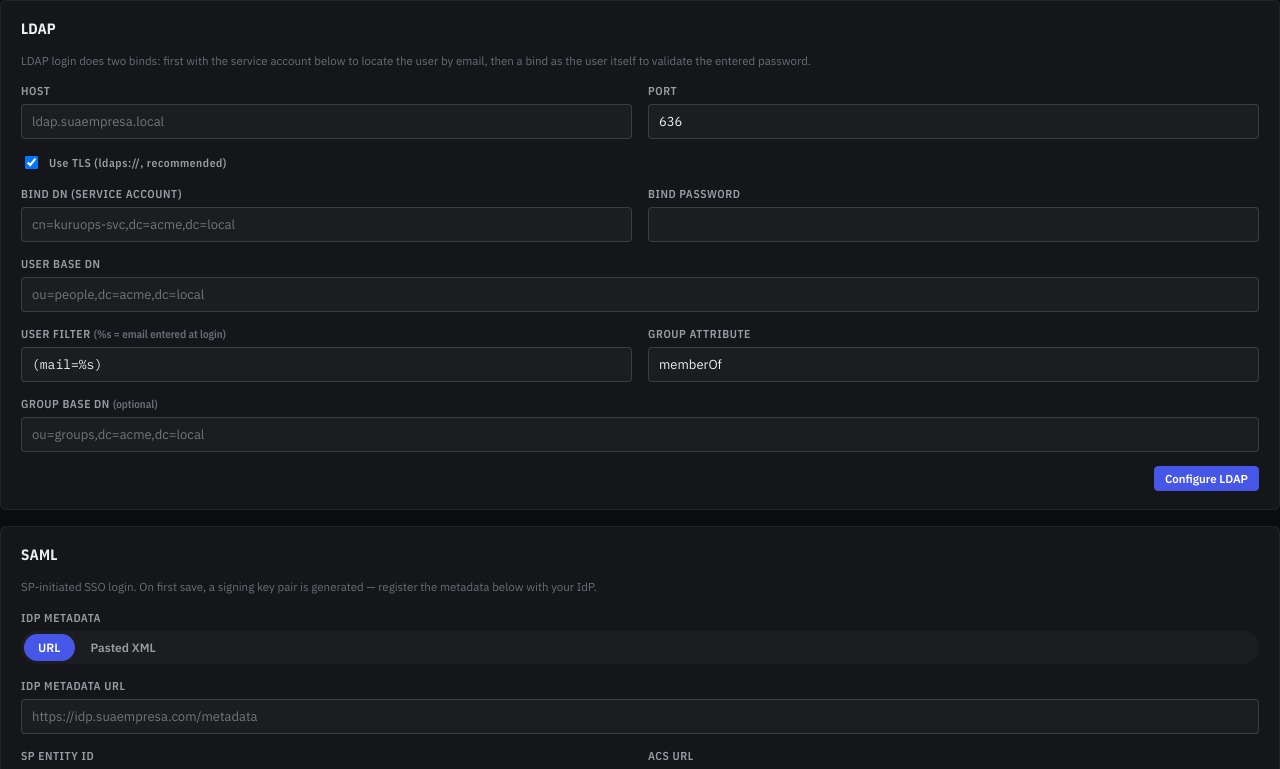
it: IdentityProvidersPanel › saving the LDAP form PUTs the config and shows a success message
In the field labelled "Host": coordinates (326, 122) x1=21 y1=104 x2=632 y2=139, type "ldap.example.com"
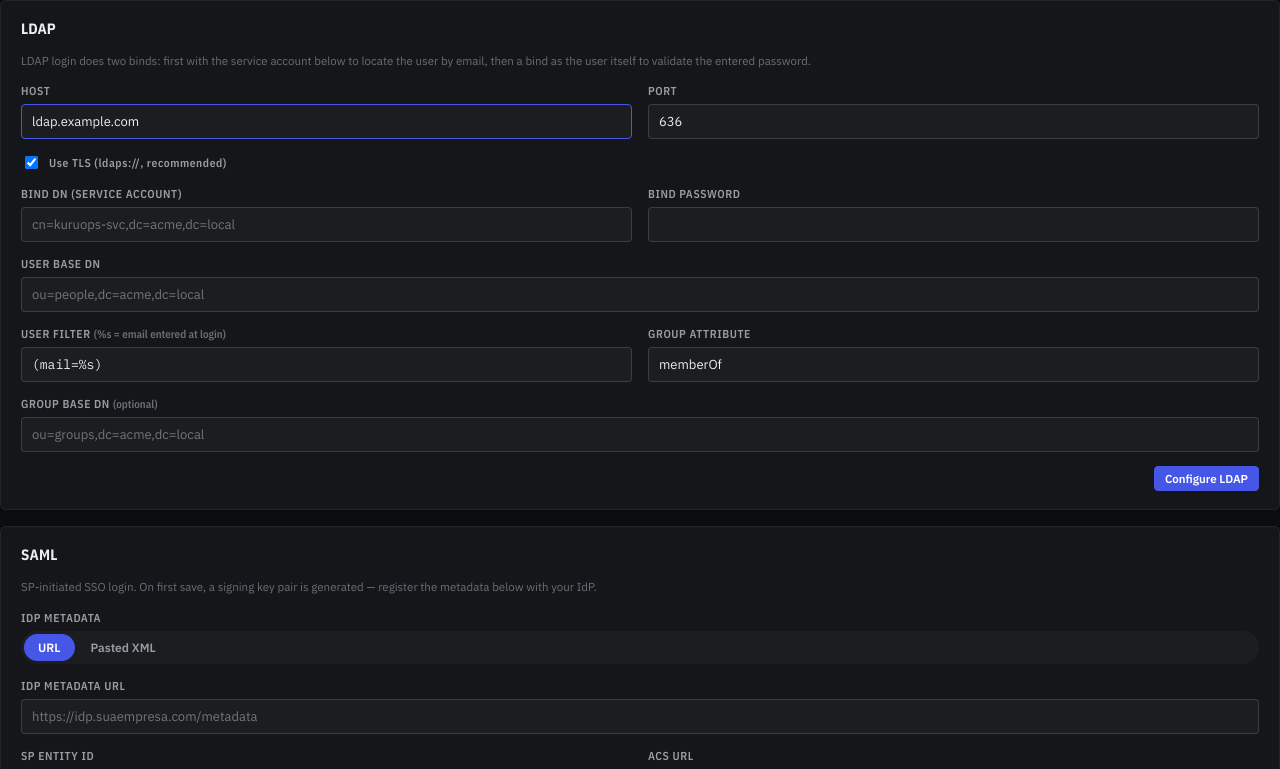
In the field labelled "Bind DN (service account)": coordinates (326, 225) x1=21 y1=207 x2=632 y2=242, type "cn=svc,dc=example,dc=com"
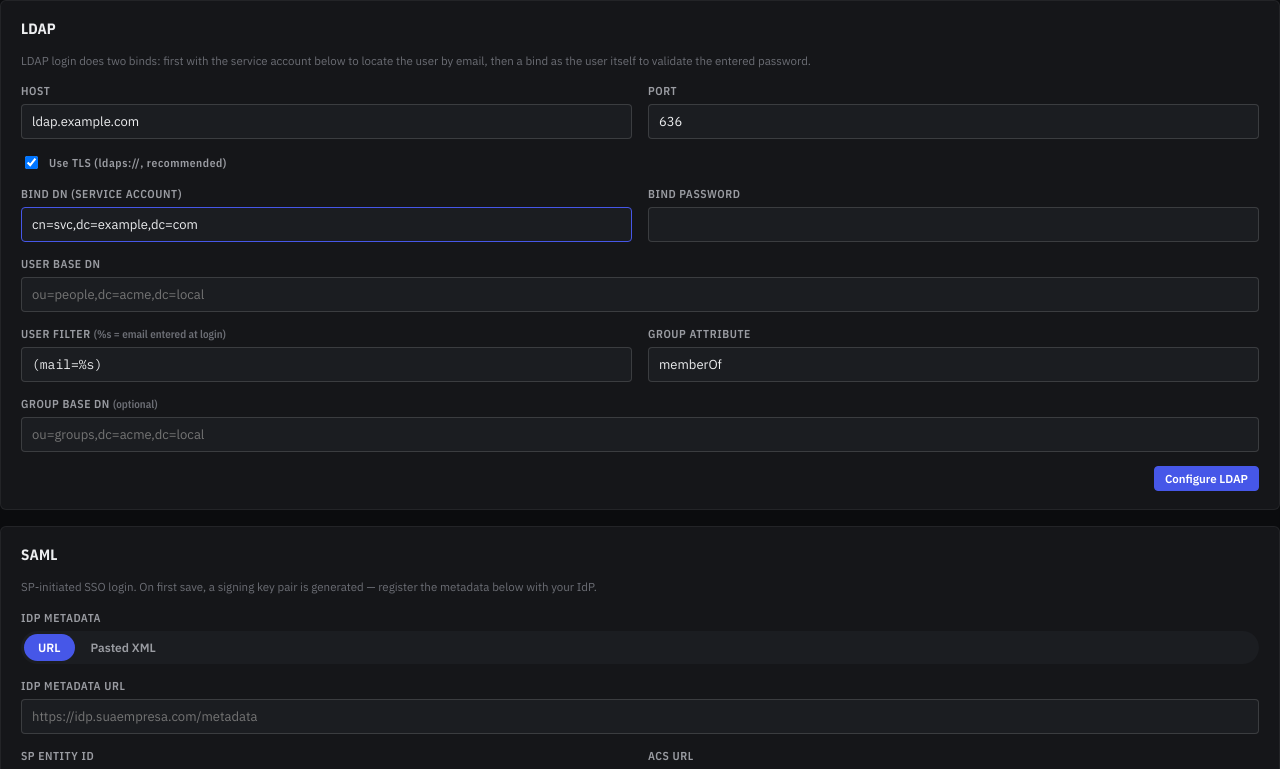
In the password field labelled "Bind password": coordinates (954, 225) x1=648 y1=207 x2=1259 y2=242, type "s3cret"
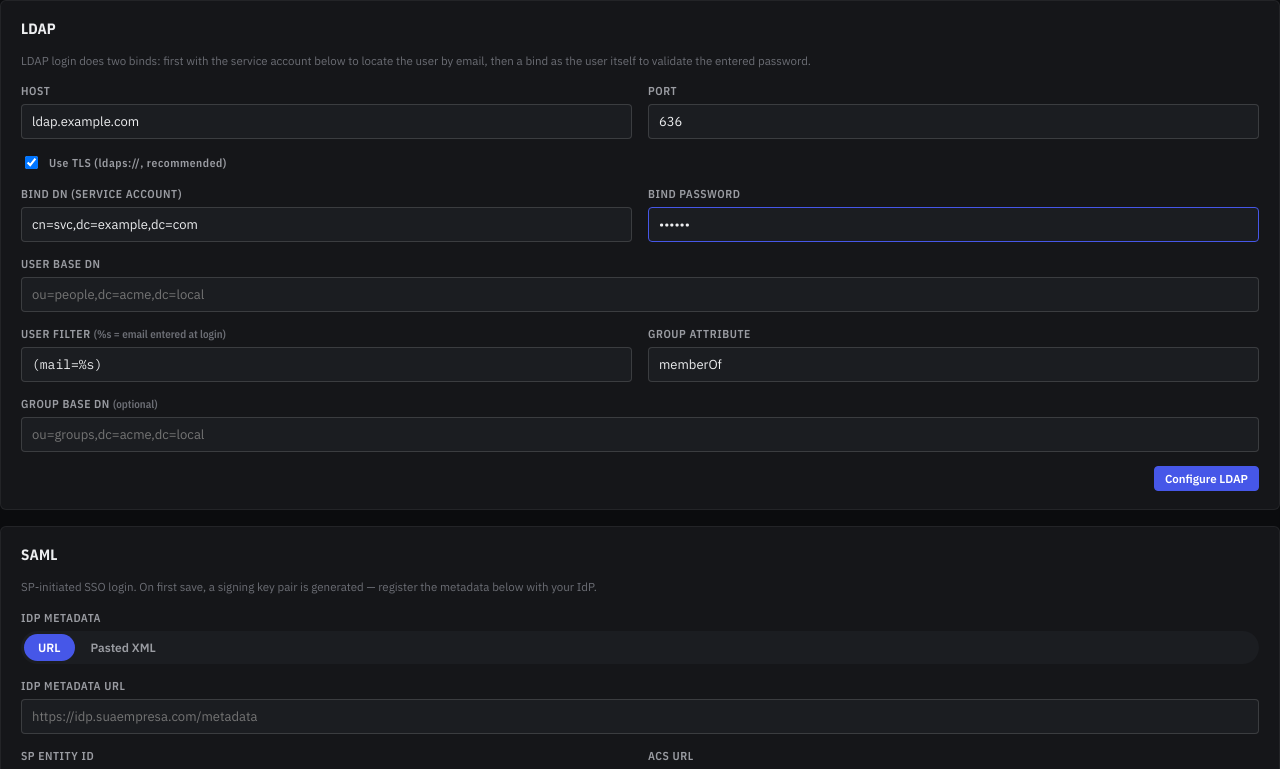
In the field labelled "User base DN": coordinates (640, 295) x1=21 y1=277 x2=1259 y2=312, type "ou=people,dc=example,dc=com"
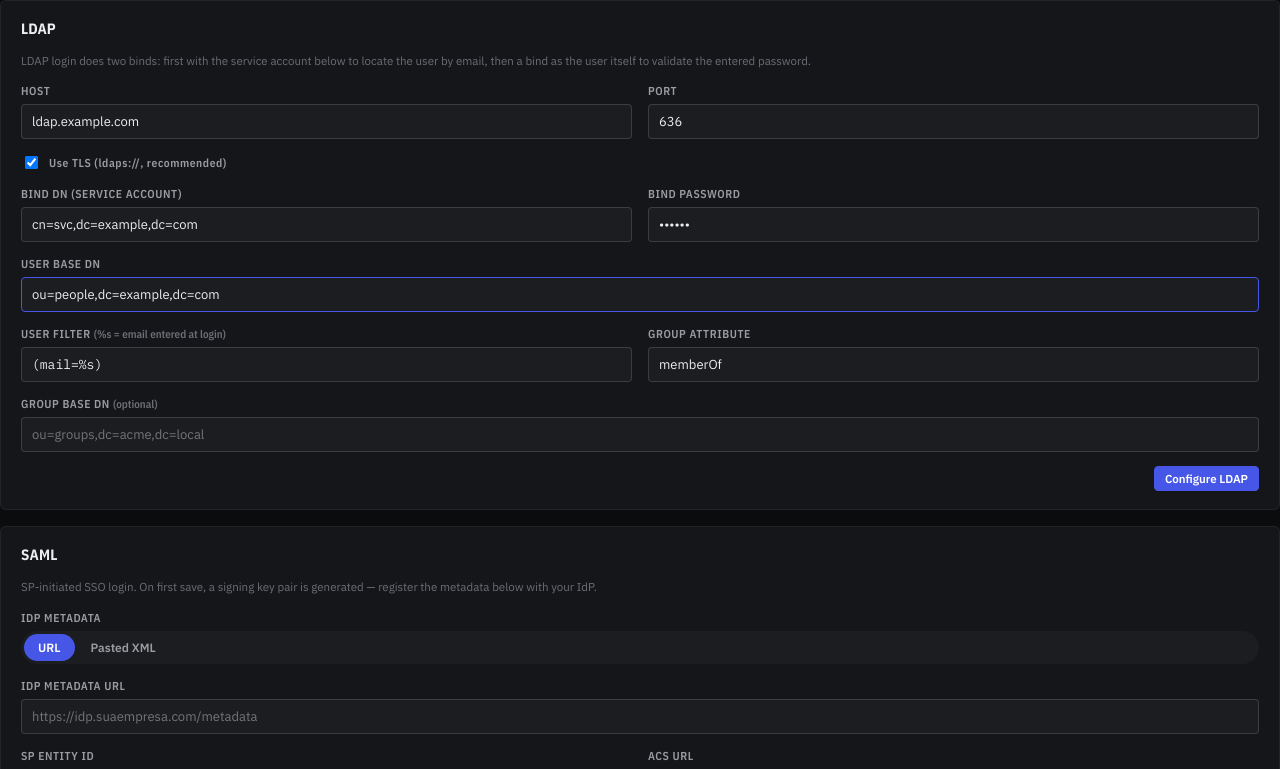
Click the button "Configure LDAP": coordinates (1206, 479) x1=1154 y1=466 x2=1259 y2=491
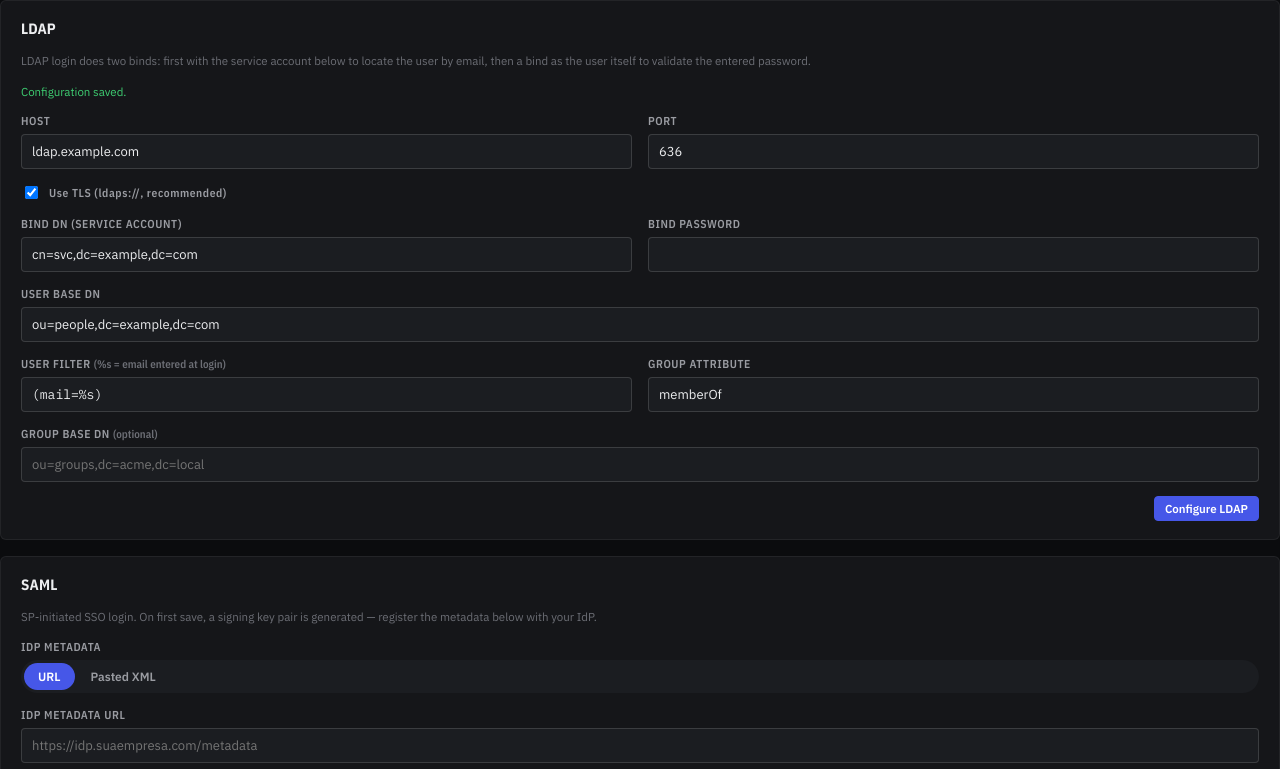
Expected: the text "Configuration saved." is shown, x1=21 y1=84 x2=126 y2=99
